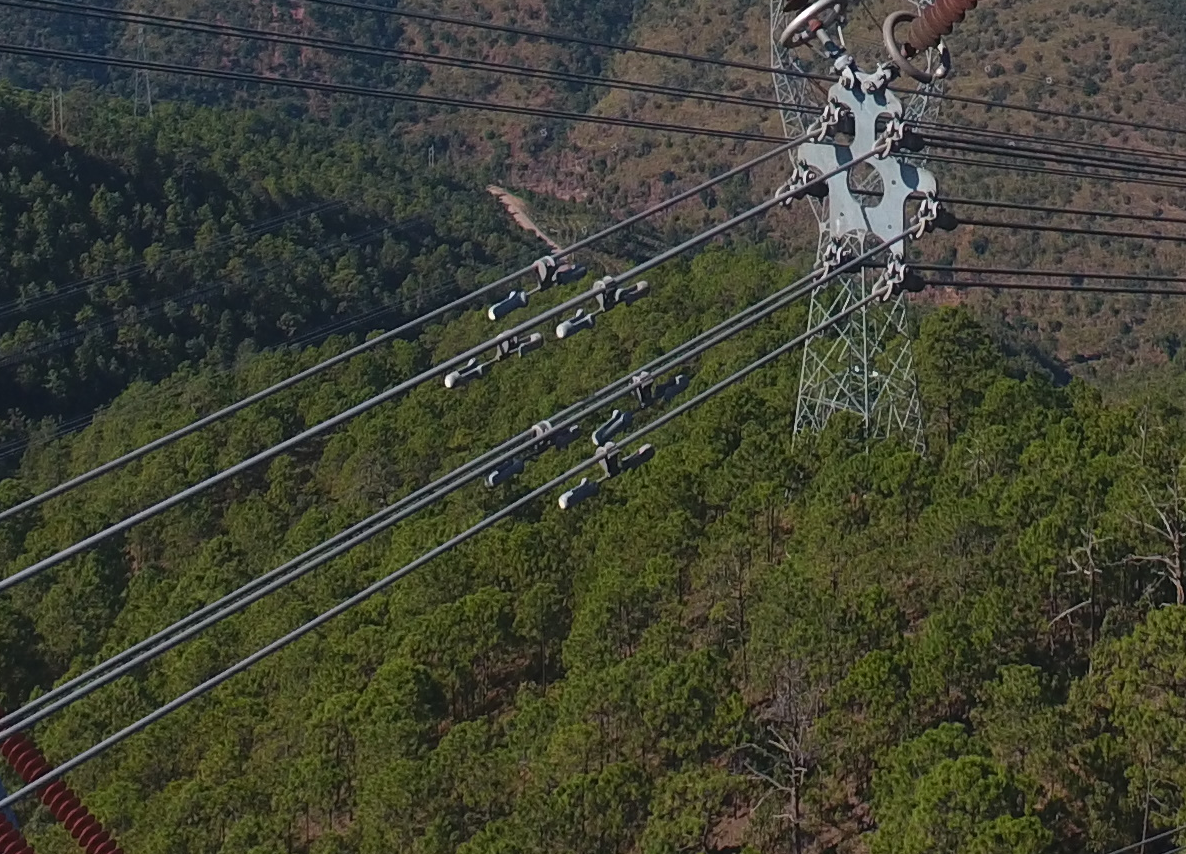damper: (586, 368, 689, 444), (485, 254, 592, 323), (479, 419, 582, 488), (556, 443, 658, 511), (441, 325, 545, 391), (554, 273, 649, 341)
